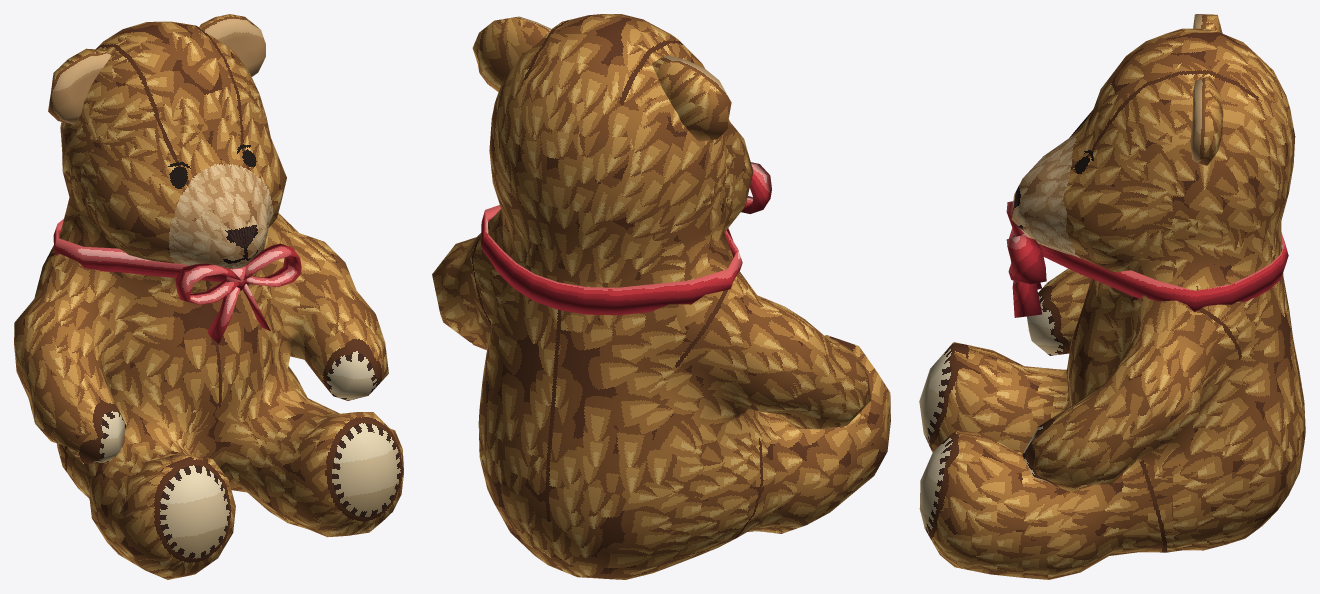
The model's file is teddy.glb.
The picture shows the model from 3 angles, left to right: view 1: azimuth 30°, elevation 25°; view 2: azimuth 150°, elevation 25°; view 3: azimuth 270°, elevation 25°; orthographic projection. The views are drawn at different scales.
Visible parts, largest first — view 1: body; view 2: body; view 3: body.
Part boxes in pixels (x1,y1,x2,y2): body: (14, 14, 403, 579); body: (432, 14, 890, 579); body: (919, 14, 1305, 579).
Size of the model in its own units: 0.2286 by 0.2943 by 0.2079.
Materials: 1 (1 with a texture image).
